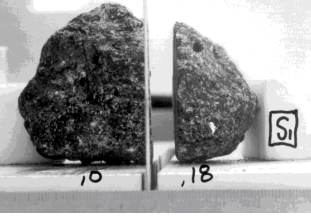Basalt: (6, 0, 147, 165), (167, 22, 258, 162)
